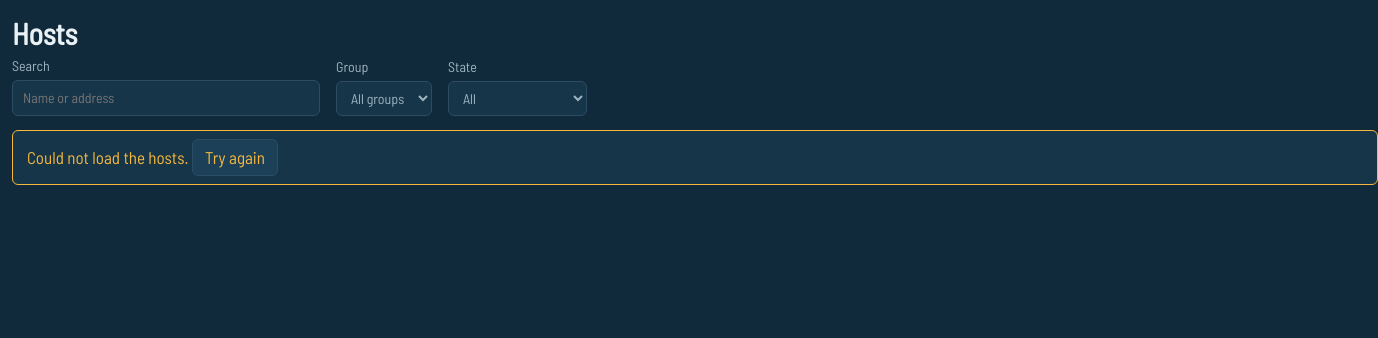
Test case: failure and change of query › shows a banner with Try again after a failed first load
Expected: the text "Could not load the hosts. Try again" is shown, [12, 130, 1377, 185]
Step 1. Click the button "Try again" → (235, 157), box [192, 139, 278, 176]
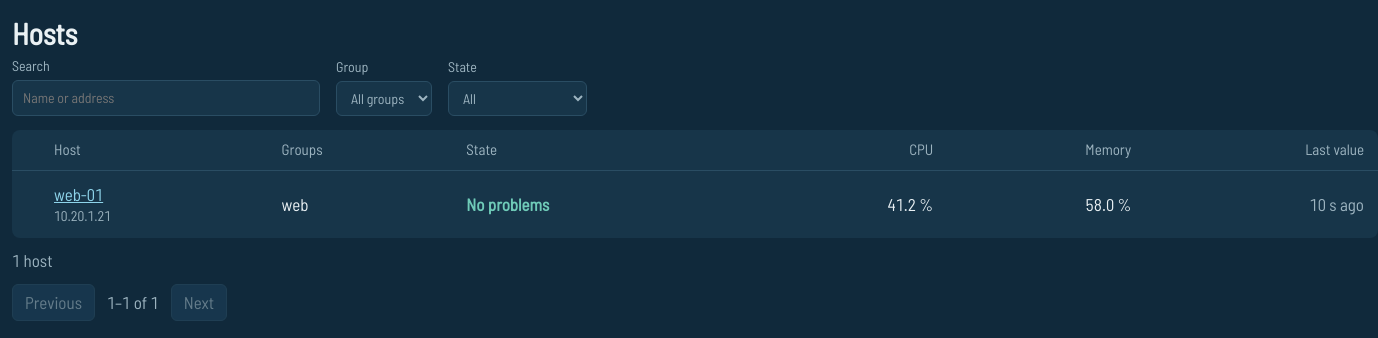
Now the table named "Hosts" is shown, box [12, 130, 1377, 238]
Now the text "Could not load the hosts." is gone
